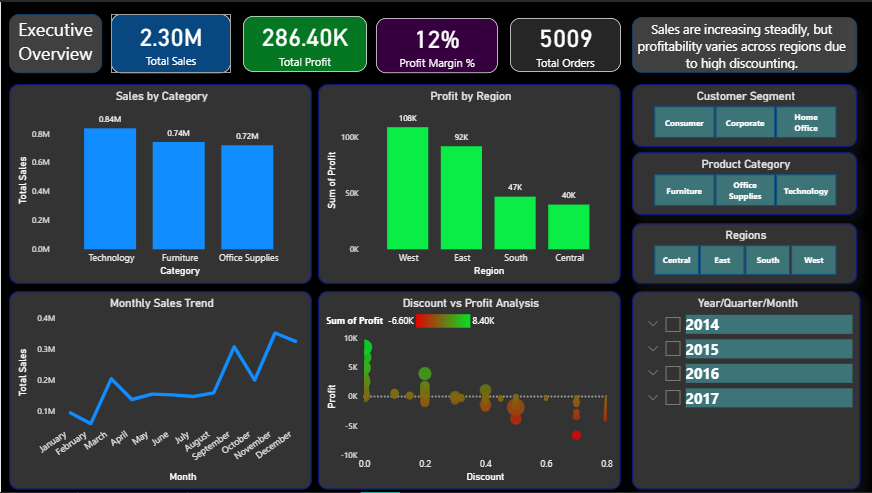

Layout of this report page (visuals, bound fields, positions):
{"tool":"powerbi","page":{"name":"Exicutive Overview","canvas":[1280,720],"ordinal":0},"visuals":[{"type":"card","fields":{"Values":["fact_superstore.Total Sales"]},"box":[161.6,17.6,176.3,86.7],"z":0},{"type":"card","fields":{"Values":["fact_superstore.Total Profit"]},"box":[355.6,20.6,182.2,82.3],"z":1000},{"type":"card","fields":{"Values":["fact_superstore.Total Orders"]},"box":[747.9,23.5,163.1,79.3],"z":2000},{"type":"card","fields":{"Values":["fact_superstore.Profit Margin %"]},"box":[551,23.5,179.3,80.8],"z":3000},{"type":"columnChart","title":"Sales by Category","fields":{"Category":["dim_product.Category"],"Y":["fact_superstore.Total Sales"]},"box":[11.8,120.5,445,293.9],"z":4000},{"type":"columnChart","title":"Profit by Region","fields":{"Category":["dim_location.Region"],"Y":["Sum(fact_superstore.Profit)"]},"box":[465.8,120.5,445,293.9],"z":5000},{"type":"lineChart","title":"Monthly Sales Trend","fields":{"Y":["fact_superstore.Total Sales"],"Category":["dim_date.Date.Variation.Date Hierarchy.Month"]},"box":[11.8,424.7,445.2,292.4],"z":6000},{"type":"scatterChart","title":"Discount vs Profit Analysis","fields":{"X":["fact_superstore.Discount"],"Size":["Sum(fact_superstore.Sales)"],"Y":["fact_superstore.Profit"]},"box":[465.8,424.7,445.2,292.4],"z":7000},{"type":"slicer","title":"Regions","fields":{"Values":["dim_location.Region"]},"box":[927.2,324.7,330.6,89.6],"z":8000},{"type":"slicer","title":"Year/Quarter/Month","fields":{"Values":["dim_date.Date.Variation.Date Hierarchy.Year","dim_date.Date.Variation.Date Hierarchy.Quarter","dim_date.Date.Variation.Date Hierarchy.Month","dim_date.Date.Variation.Date Hierarchy.Day"]},"box":[927.2,424.7,336.5,292.4],"z":9000},{"type":"slicer","title":"Customer Segment","fields":{"Values":["dim_customer.Segment"]},"box":[927.2,120.5,330.6,92.6],"z":10000},{"type":"slicer","title":"Product Category","fields":{"Values":["dim_product.Category"]},"box":[927.2,220.4,330.6,92.6],"z":11000},{"type":"textbox","box":[11.8,17.6,136.7,86.7],"z":12000},{"type":"textbox","box":[927.2,22,330.6,82.3],"z":13000}]}

Visuals, with their boxes in screenshot pixels (x1, y1, x2, y2), scaled from the page's 1280x720 canvas onto the 872x493 screenshot:
card - fact_superstore.Total Sales: [110,12,230,71]
card - fact_superstore.Total Profit: [242,14,366,70]
card - fact_superstore.Total Orders: [510,16,621,70]
card - fact_superstore.Profit Margin %: [375,16,498,71]
"Sales by Category" columnChart: [8,83,311,284]
"Profit by Region" columnChart: [317,83,620,284]
"Monthly Sales Trend" lineChart: [8,291,311,491]
"Discount vs Profit Analysis" scatterChart: [317,291,621,491]
"Regions" slicer: [632,222,857,284]
"Year/Quarter/Month" slicer: [632,291,861,491]
"Customer Segment" slicer: [632,83,857,146]
"Product Category" slicer: [632,151,857,214]
textbox: [8,12,101,71]
textbox: [632,15,857,71]
